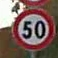limite 50: (11, 8, 55, 50)
